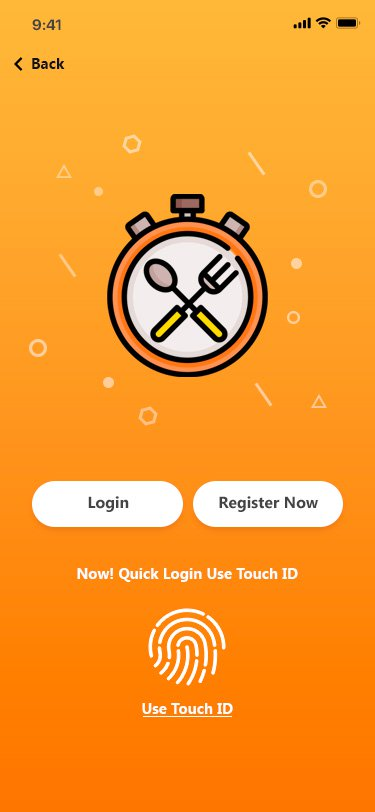Icon: (14, 58, 24, 72)
Image: (29, 134, 328, 427), (148, 608, 227, 686)
Text: (77, 567, 298, 583), (142, 702, 234, 718), (32, 57, 66, 71)
TextButton: (33, 481, 184, 528), (193, 481, 343, 527)
UpperTaskBar: (32, 17, 361, 32)
